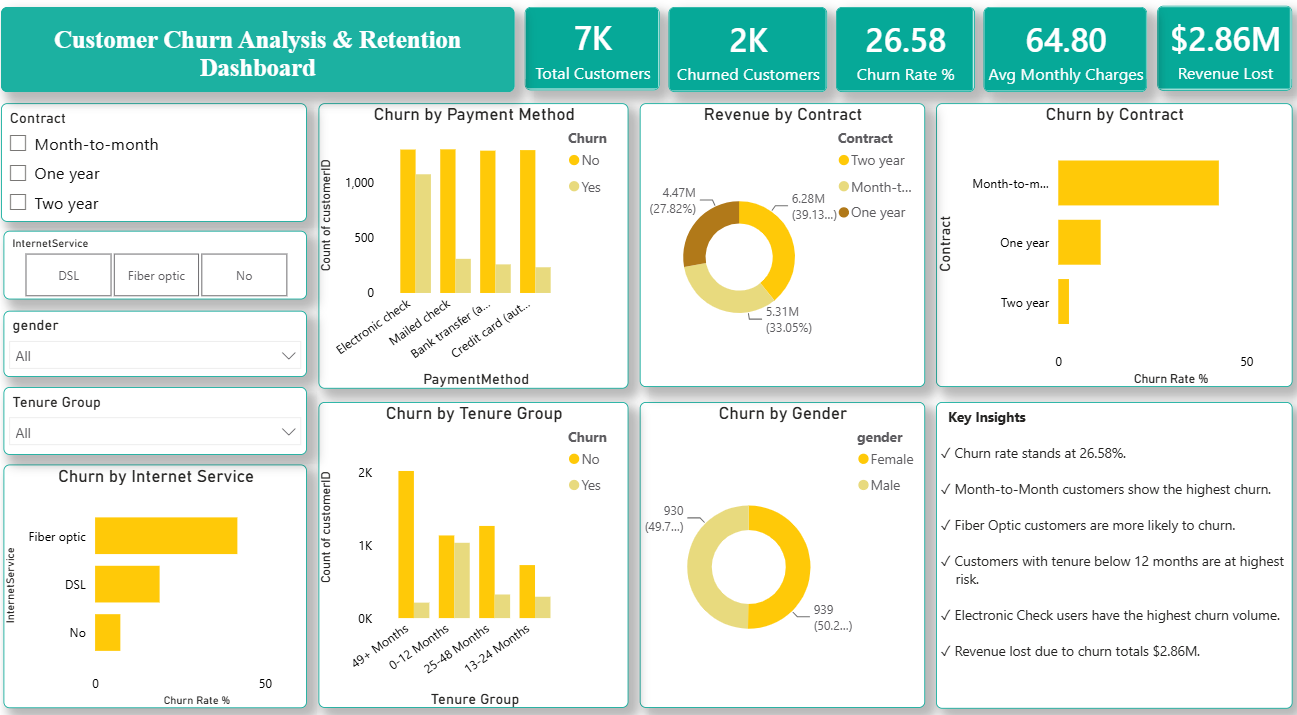

What the dashboard file says about the page in this screenshot:
{"tool":"powerbi","page":{"name":"Page 1","canvas":[1280,720],"ordinal":0},"visuals":[{"type":"cardVisual","fields":{"Data":["customer_churn customer_data.Total Customers"]},"box":[517.3,14.7,132.1,81.9],"z":0},{"type":"cardVisual","fields":{"Data":["customer_churn customer_data.Churned Customers"]},"box":[657.9,14.7,155.3,83.2],"z":1000},{"type":"cardVisual","fields":{"Data":["customer_churn customer_data.Churn Rate %"]},"box":[821.7,14.7,135.7,83.2],"z":2000},{"type":"cardVisual","fields":{"Data":["customer_churn customer_data.Revenue Lost"]},"box":[1136,13.5,132.1,83.2],"z":3000},{"type":"cardVisual","fields":{"Data":["customer_churn customer_data.Avg Monthly Charges"]},"box":[966,14.7,160.2,83.2],"z":4000},{"type":"clusteredBarChart","title":"Churn by Contract","fields":{"Category":["customer_churn customer_data.Contract"],"Y":["customer_churn customer_data.Churn Rate %"]},"box":[919.6,108.8,348.5,277.6],"z":5000},{"type":"clusteredBarChart","title":"Churn by Internet Service","fields":{"Category":["customer_churn customer_data.InternetService"],"Y":["customer_churn customer_data.Churn Rate %"]},"box":[7.3,462.2,297.1,238.5],"z":6000},{"type":"clusteredColumnChart","title":"Churn by Payment Method","fields":{"Category":["customer_churn customer_data.PaymentMethod"],"Series":["customer_churn customer_data.Churn"],"Y":["CountNonNull(customer_churn customer_data.customerID)"]},"box":[315.5,108.8,303.3,278.8],"z":7000},{"type":"donutChart","title":"Churn by Gender","fields":{"Category":["customer_churn customer_data.gender"],"Y":["CountNonNull(customer_churn customer_data.customerID)"]},"box":[629.8,401.1,278.8,299.6],"z":8000},{"type":"clusteredColumnChart","title":"Churn by Tenure Group","fields":{"Category":["customer_churn customer_data.Tenure Group"],"Y":["CountNonNull(customer_churn customer_data.customerID)"],"Series":["customer_churn customer_data.Churn"]},"box":[315.5,401.1,303.3,299.6],"z":9000},{"type":"donutChart","title":"Revenue by Contract","fields":{"Category":["customer_churn customer_data.Contract"],"Y":["Sum(customer_churn customer_data.TotalCharges)"]},"box":[629.8,108.8,278.8,277.6],"z":10000},{"type":"slicer","fields":{"Values":["customer_churn customer_data.Contract"]},"box":[4.9,108.8,299.6,116.2],"z":11000},{"type":"slicer","fields":{"Values":["customer_churn customer_data.InternetService"]},"box":[7.3,233.6,297.1,67.3],"z":12000},{"type":"slicer","fields":{"Values":["customer_churn customer_data.gender"]},"box":[7.3,311.8,297.1,64.8],"z":14000},{"type":"slicer","fields":{"Values":["customer_churn customer_data.Tenure Group"]},"box":[7.3,386.4,297.1,66],"z":16000},{"type":"textbox","box":[4.9,14.7,502.6,83.2],"z":17000},{"type":"textbox","box":[920,401,349,300],"z":17001}]}

Visuals, with their boxes in screenshot pixels (x1, y1, x2, y2), scaled from the page's 1280x720 canvas onto the 1297x715 screenshot:
cardVisual - customer_churn customer_data.Total Customers: detection(524, 15, 658, 96)
cardVisual - customer_churn customer_data.Churned Customers: detection(667, 15, 824, 97)
cardVisual - customer_churn customer_data.Churn Rate %: detection(833, 15, 970, 97)
cardVisual - customer_churn customer_data.Revenue Lost: detection(1151, 13, 1285, 96)
cardVisual - customer_churn customer_data.Avg Monthly Charges: detection(979, 15, 1141, 97)
"Churn by Contract" clusteredBarChart: detection(932, 108, 1285, 384)
"Churn by Internet Service" clusteredBarChart: detection(7, 459, 308, 696)
"Churn by Payment Method" clusteredColumnChart: detection(320, 108, 627, 385)
"Churn by Gender" donutChart: detection(638, 398, 921, 696)
"Churn by Tenure Group" clusteredColumnChart: detection(320, 398, 627, 696)
"Revenue by Contract" donutChart: detection(638, 108, 921, 384)
slicer - customer_churn customer_data.Contract: detection(5, 108, 309, 223)
slicer - customer_churn customer_data.InternetService: detection(7, 232, 308, 299)
slicer - customer_churn customer_data.gender: detection(7, 310, 308, 374)
slicer - customer_churn customer_data.Tenure Group: detection(7, 384, 308, 449)
textbox: detection(5, 15, 514, 97)
textbox: detection(932, 398, 1286, 696)
